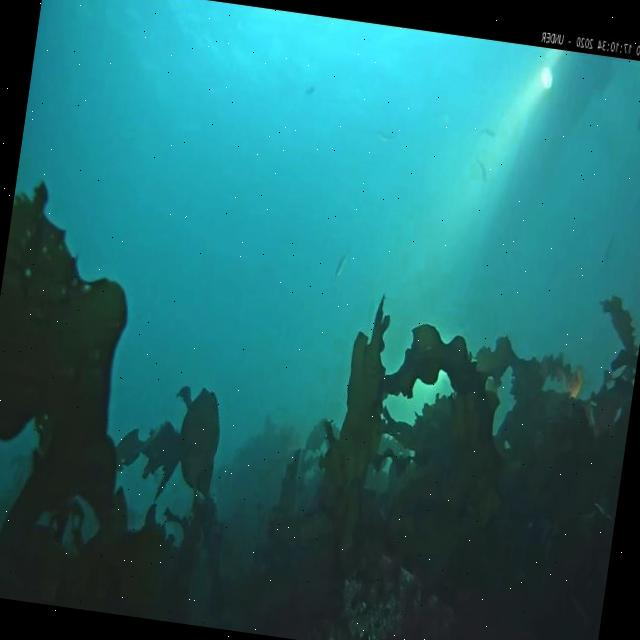fish: (334, 248, 349, 282), (472, 160, 490, 184), (377, 128, 398, 144), (635, 81, 640, 135)
